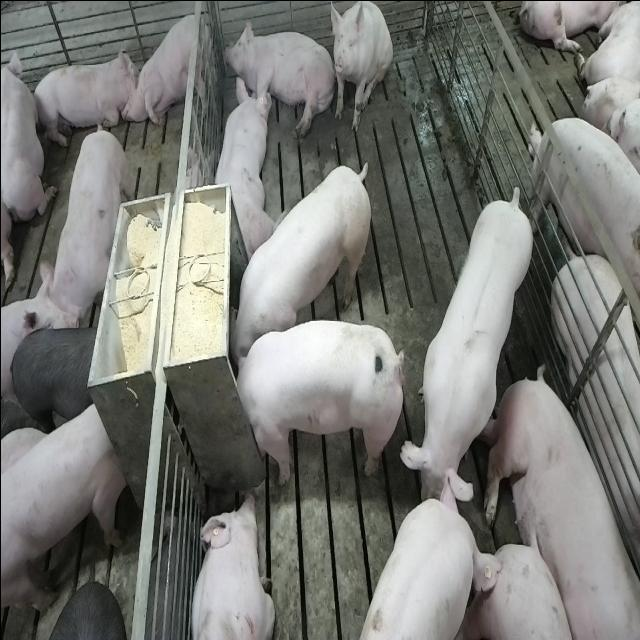Feeding: (228, 160, 376, 363), (232, 317, 408, 483)
Lateral_lying: (480, 367, 636, 640), (222, 14, 336, 138)
Sitting: (329, 1, 392, 134)
Standing: (398, 186, 532, 518), (551, 253, 640, 615), (1, 394, 126, 618), (531, 110, 640, 304), (356, 495, 498, 640), (36, 112, 128, 332), (9, 320, 98, 428)
Sternal_lying: (187, 490, 275, 640), (208, 72, 272, 260), (30, 44, 136, 148), (2, 41, 58, 224)
